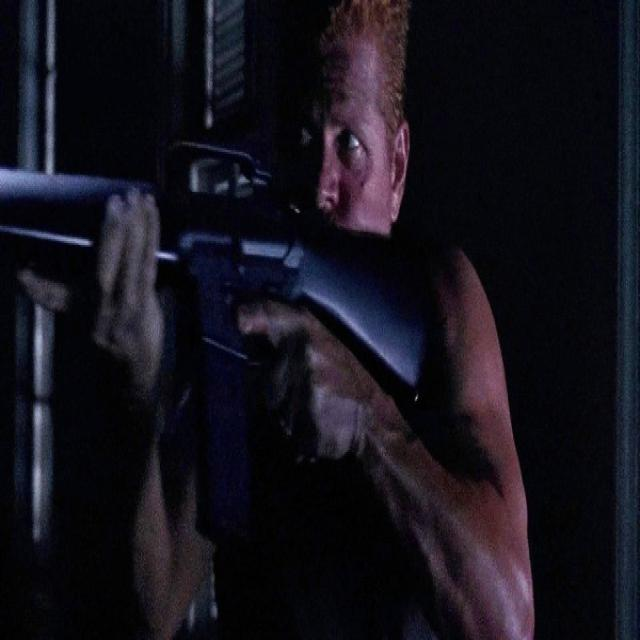rifle: (1, 131, 441, 553)
